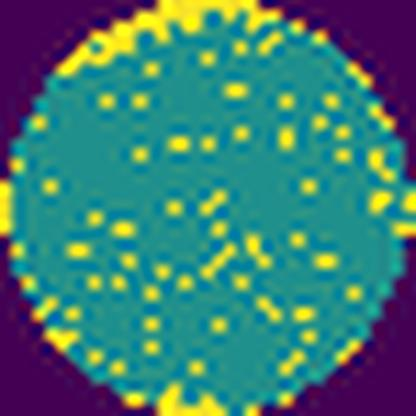Edge-Loc: (46, 0, 284, 77), (151, 380, 228, 416)
